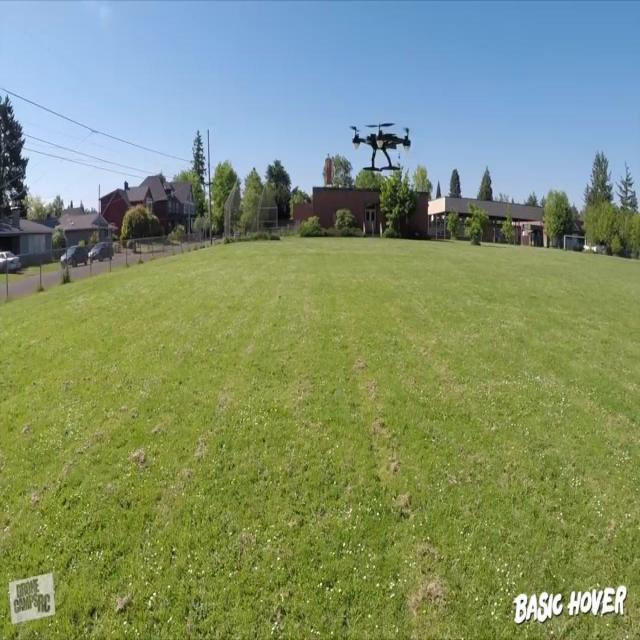UAV: (349, 122, 411, 172)
